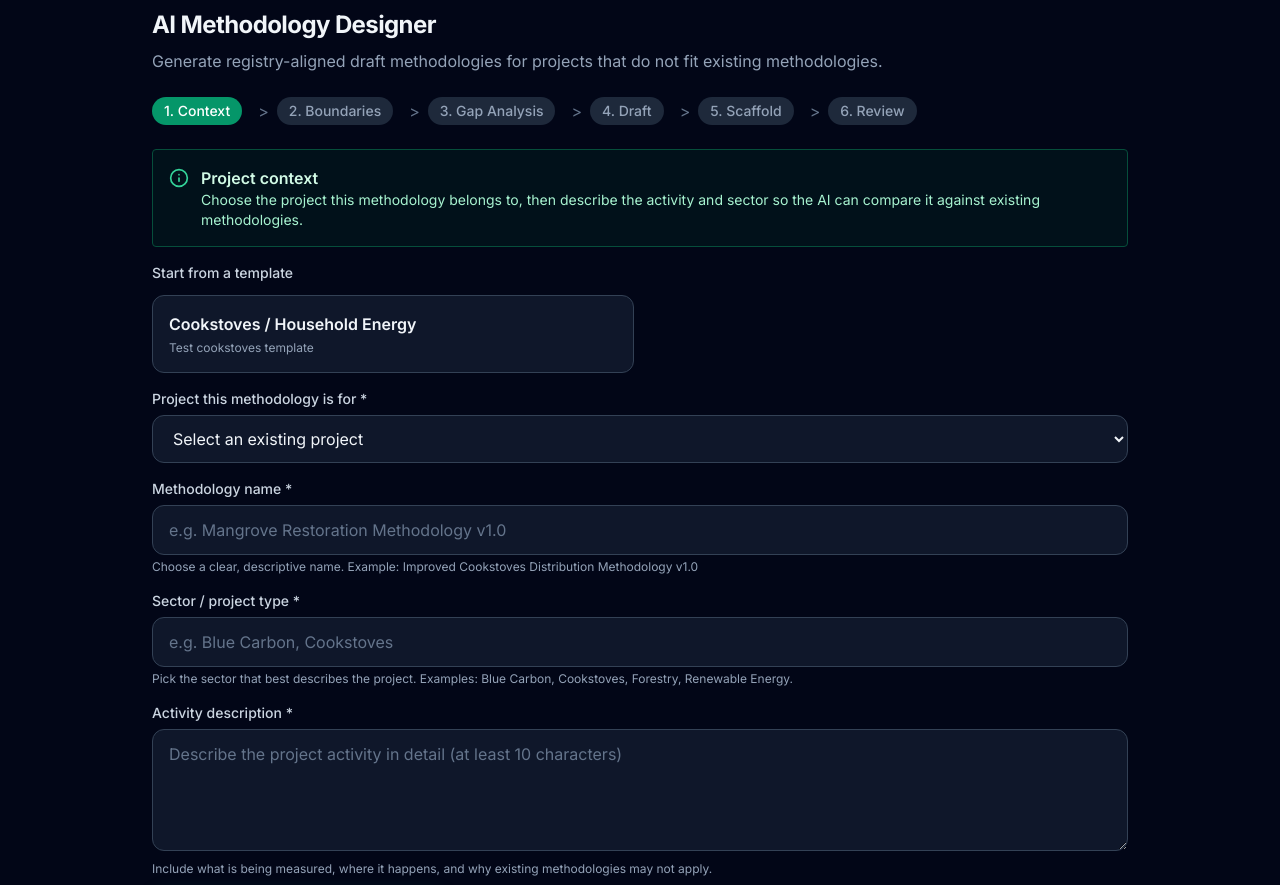
Scenario: MethodologyDesignerPage › shows advanced fields when toggle is clicked
Select "Test Project" in the dropdown labelled "Project this methodology is for *" at (640, 439), box [152, 415, 1128, 463]
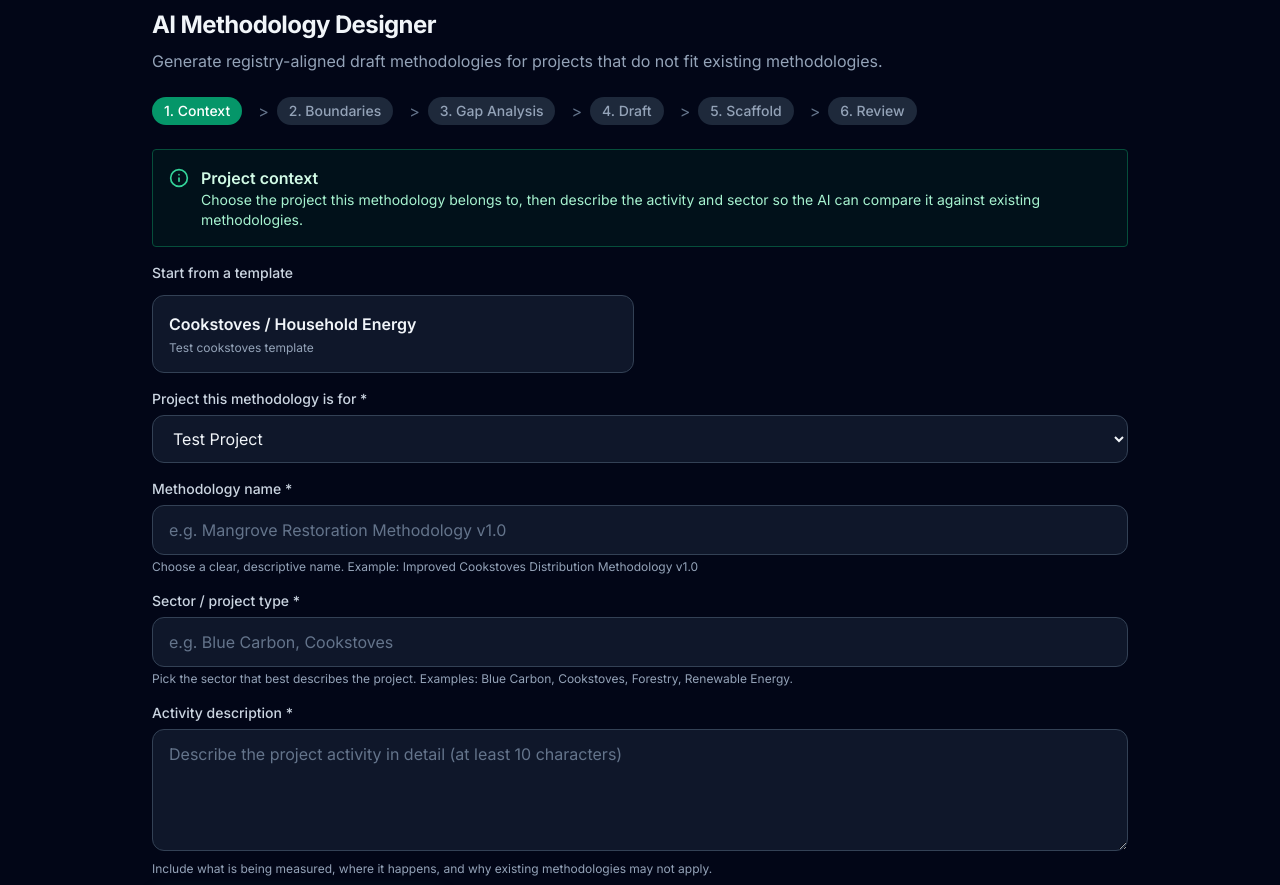
Type "Test Methodology" into the field labelled "Methodology name *" at (640, 530), box [152, 505, 1128, 555]
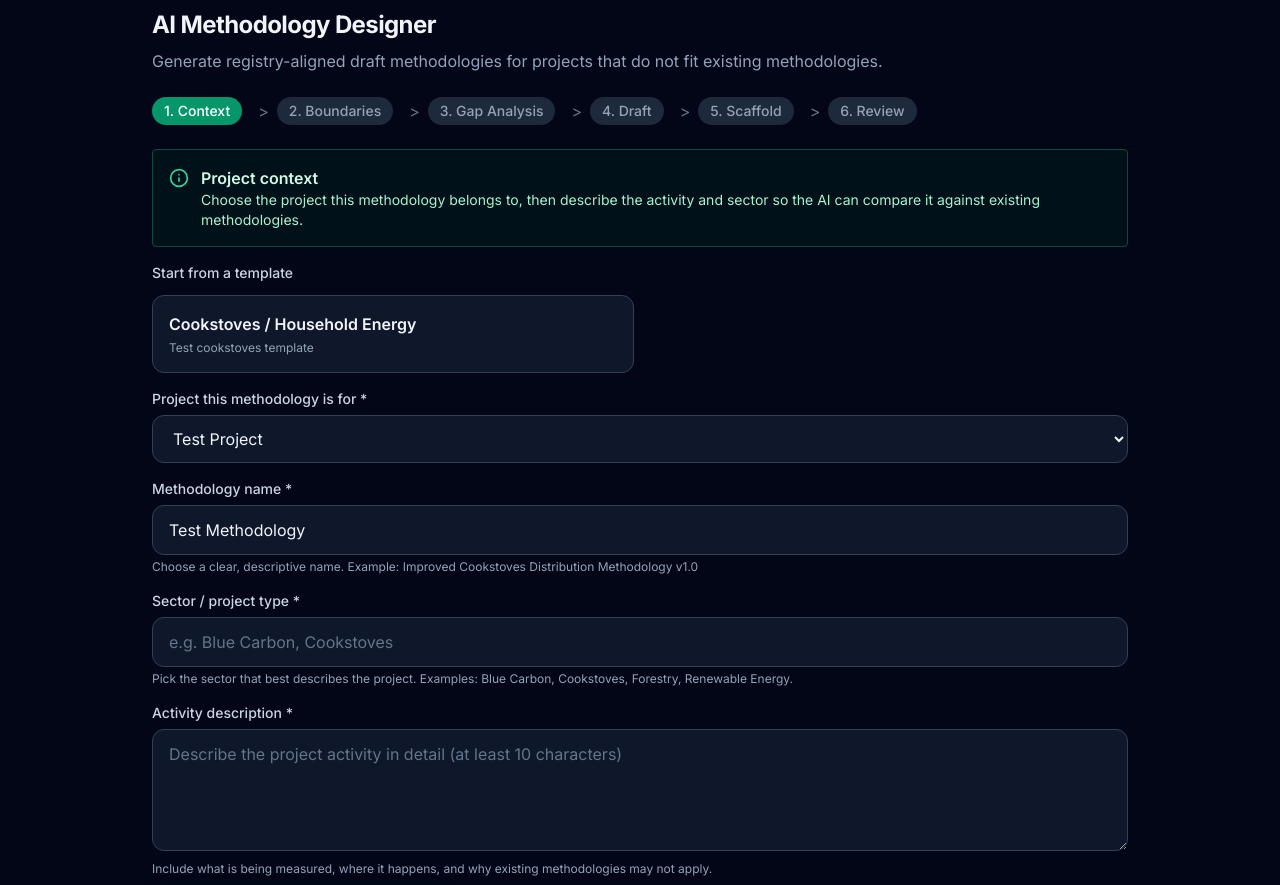
Type "Test Sector" into the field labelled "Sector / project type *" at (640, 642), box [152, 617, 1128, 667]
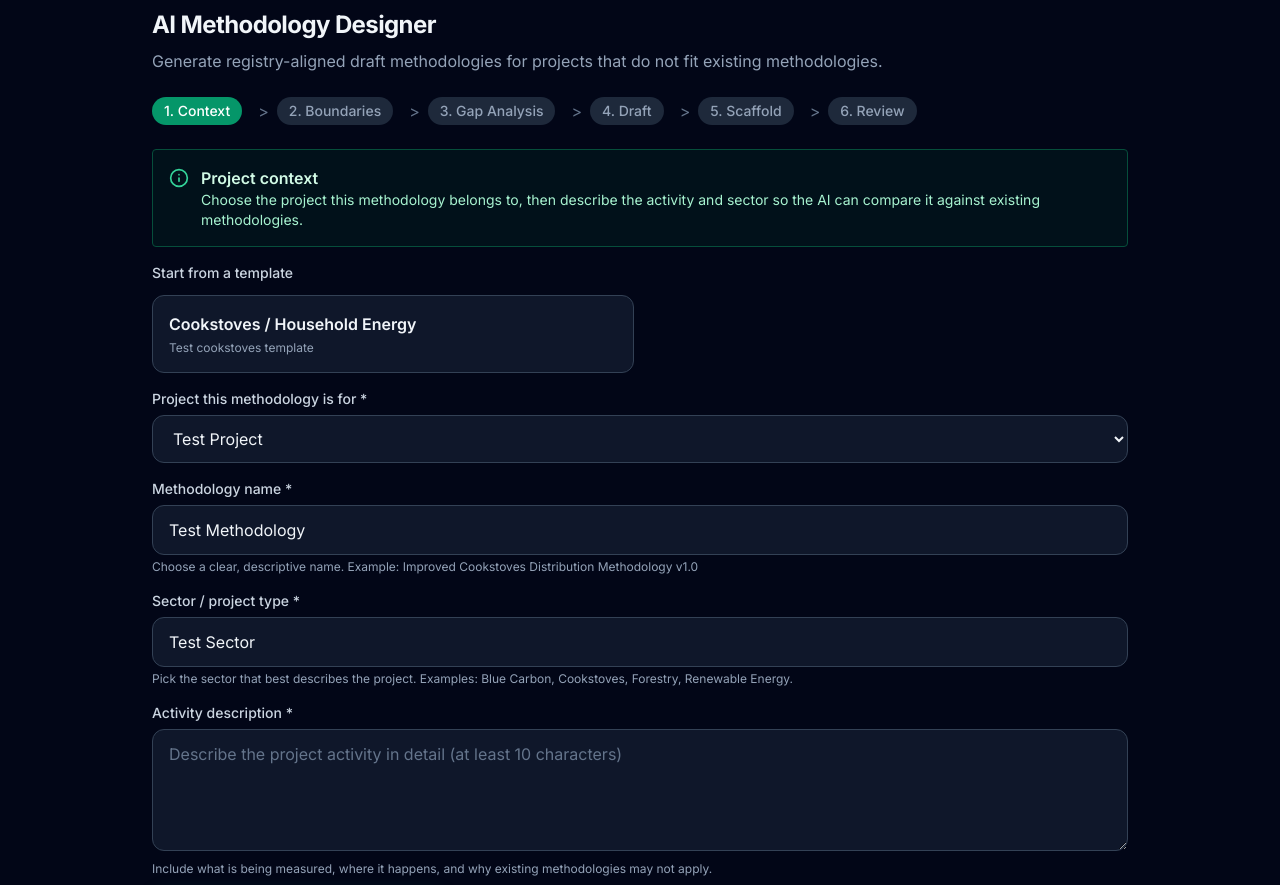
Replace the text in the text box labelled "Activity description *" with "A detailed activity description for testing." at (640, 790), box [152, 729, 1128, 851]
(page scrolled)
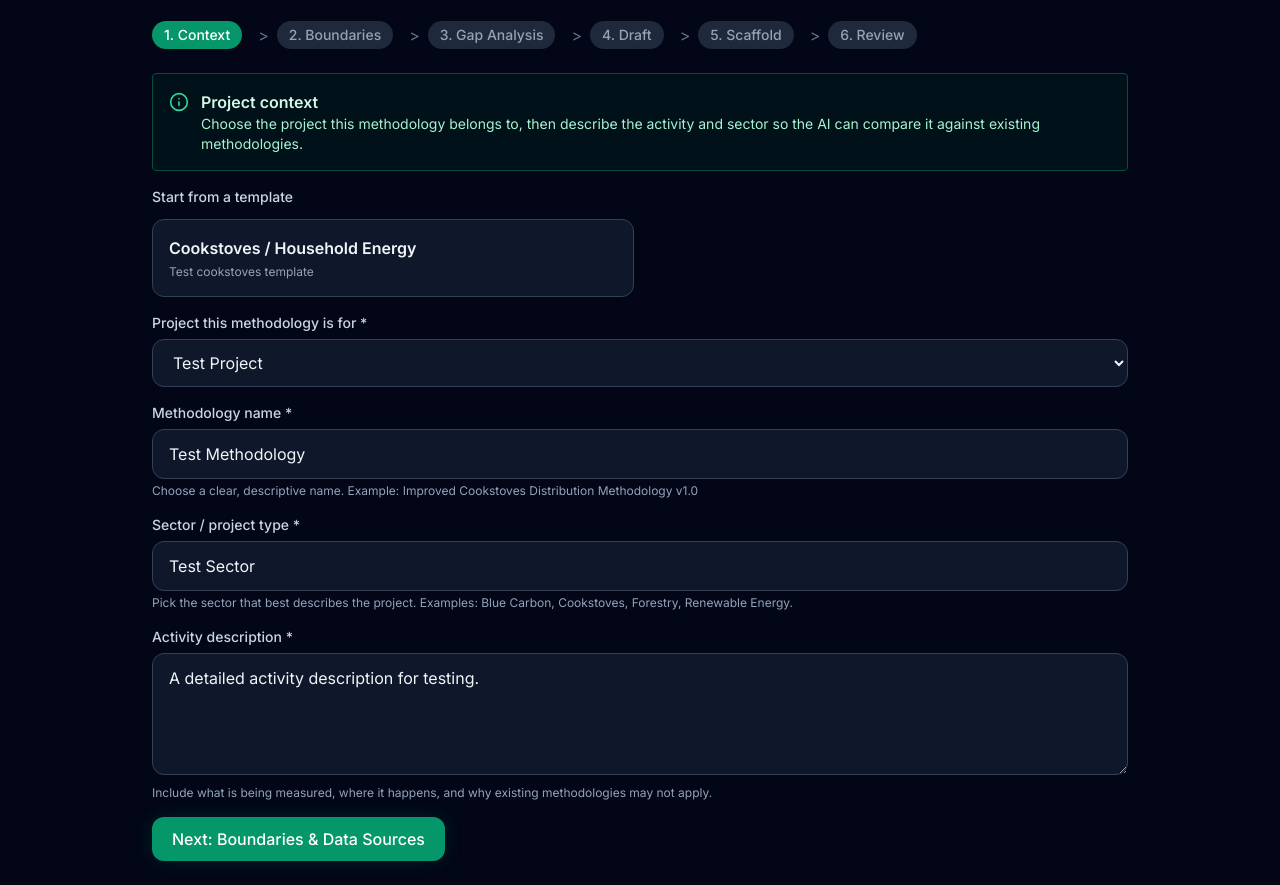
Click the button "Next: Boundaries & Data Sources" at (298, 839), box [152, 817, 445, 861]
(page scrolled)
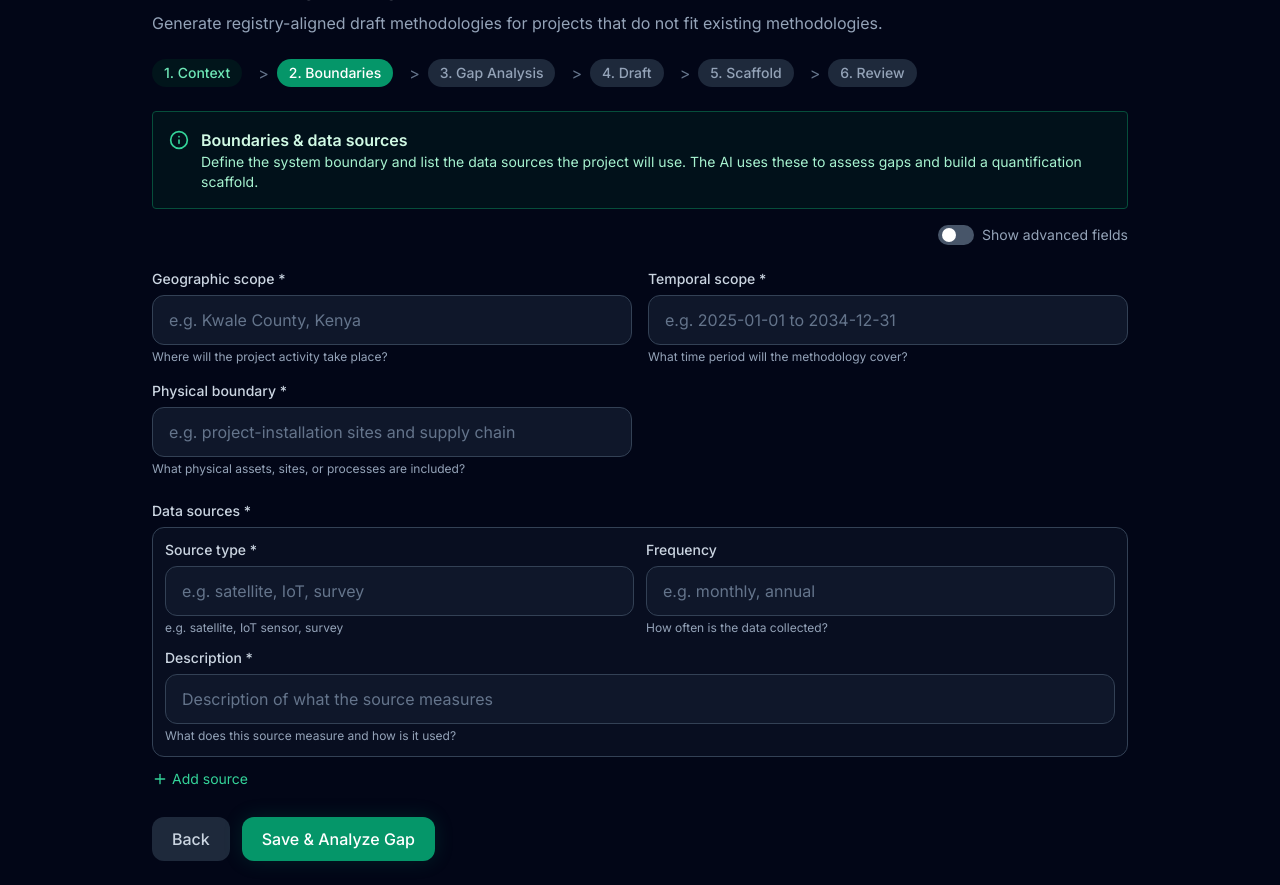
Check: the text "Show advanced fields" is shown, box [982, 225, 1128, 245]
Click the button "Show advanced fields" at (1033, 235), box [938, 225, 1128, 245]
(page scrolled)
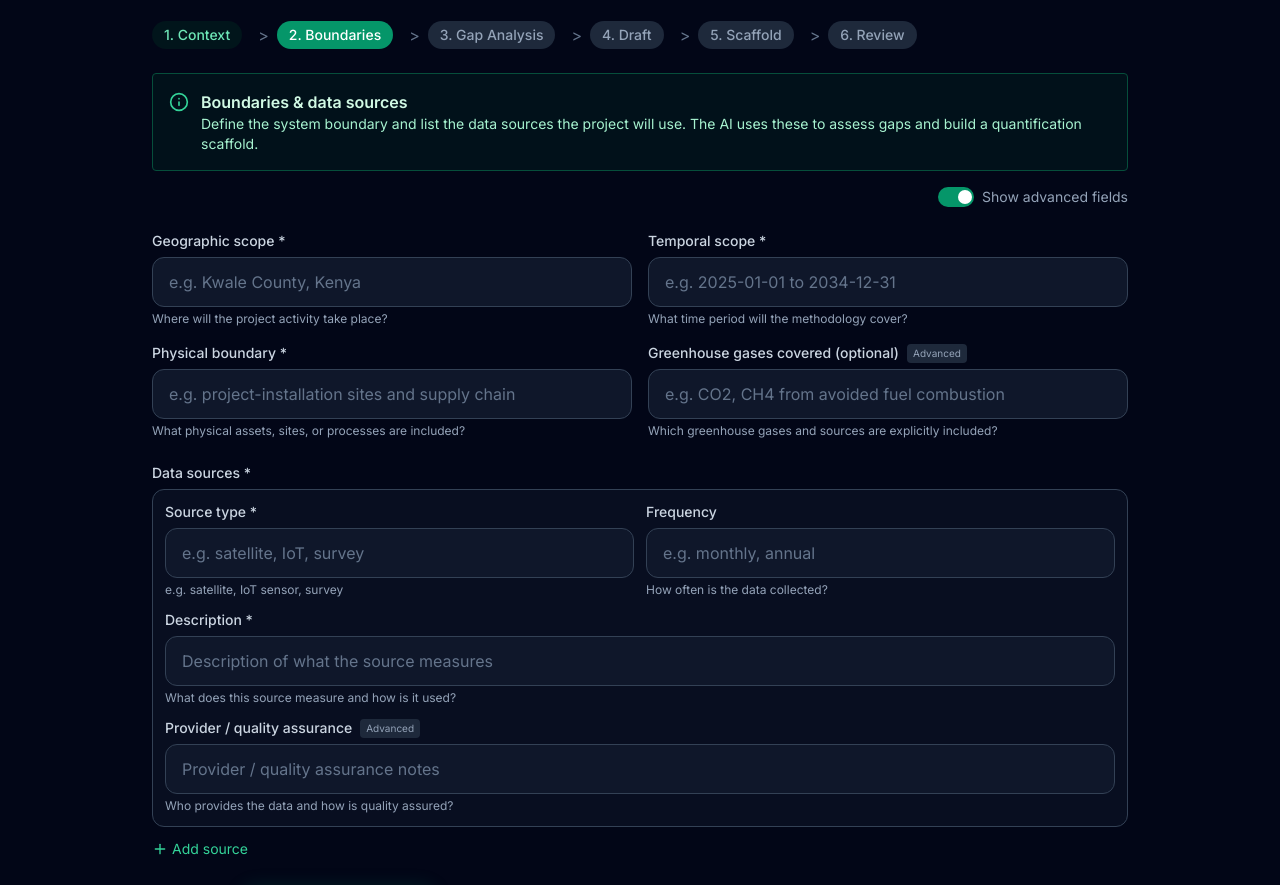
Check: the field labelled "Greenhouse gases covered (optional)" is shown, box [648, 369, 1128, 419]
